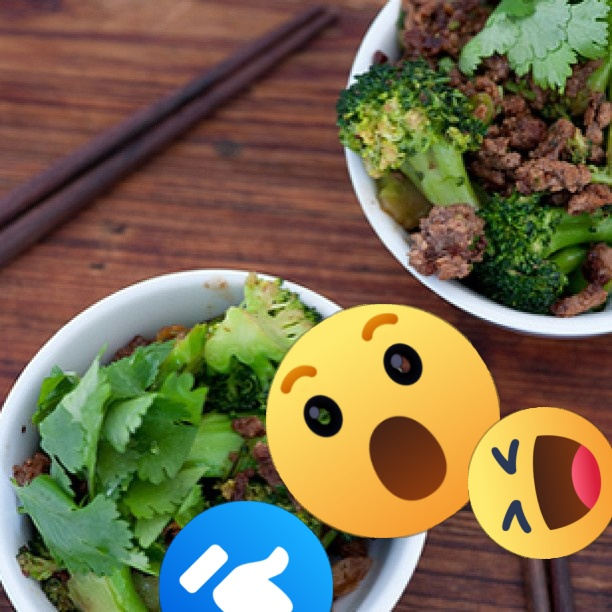haha: (468, 407, 612, 559)
like: (159, 501, 333, 612)
wow: (266, 304, 500, 538)
